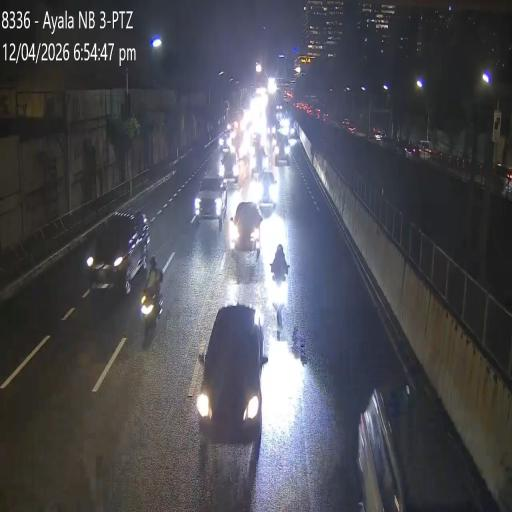Car: (349, 374, 487, 512), (196, 304, 266, 448), (84, 209, 150, 297), (194, 174, 226, 226), (230, 201, 262, 253), (256, 169, 278, 211), (219, 150, 238, 187), (274, 128, 290, 164)
Motor: (141, 265, 164, 345), (269, 257, 287, 334)
Not Accident: (85, 205, 165, 353), (194, 150, 238, 228)
